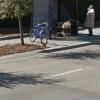Bicycle: (27, 21, 51, 45)
